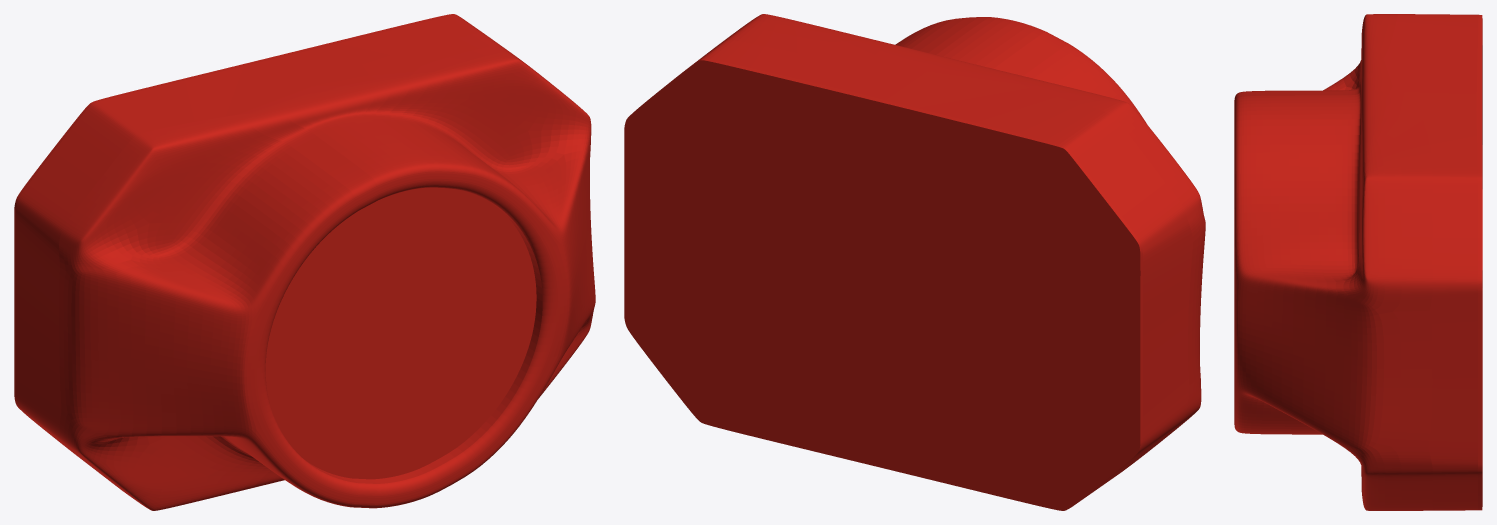
Rendered from Уплотнитель1.fbx.
The picture shows the model from 3 angles, left to right: view 1: azimuth 30°, elevation 25°; view 2: azimuth 150°, elevation 25°; view 3: azimuth 270°, elevation 25°; orthographic projection. The views are drawn at different scales.
Parts seen in each view (by area): view 1: Cube.031; view 2: Cube.031; view 3: Cube.031.
Boxes of the visible parts, x1,y1,x2,y2 form: Cube.031: (14,14,595,510); Cube.031: (624,14,1205,510); Cube.031: (1234,14,1482,510).
Bounding box in the file's own units: 2.96 × 2 × 1.33.
